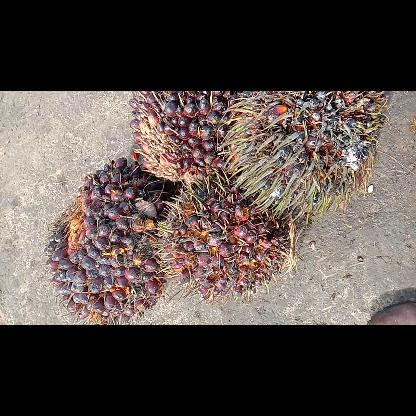Kurang masak: (165, 180, 296, 298), (129, 90, 231, 182)
TBS abnormal: (219, 90, 388, 218)
TBS masak: (45, 156, 165, 324)
